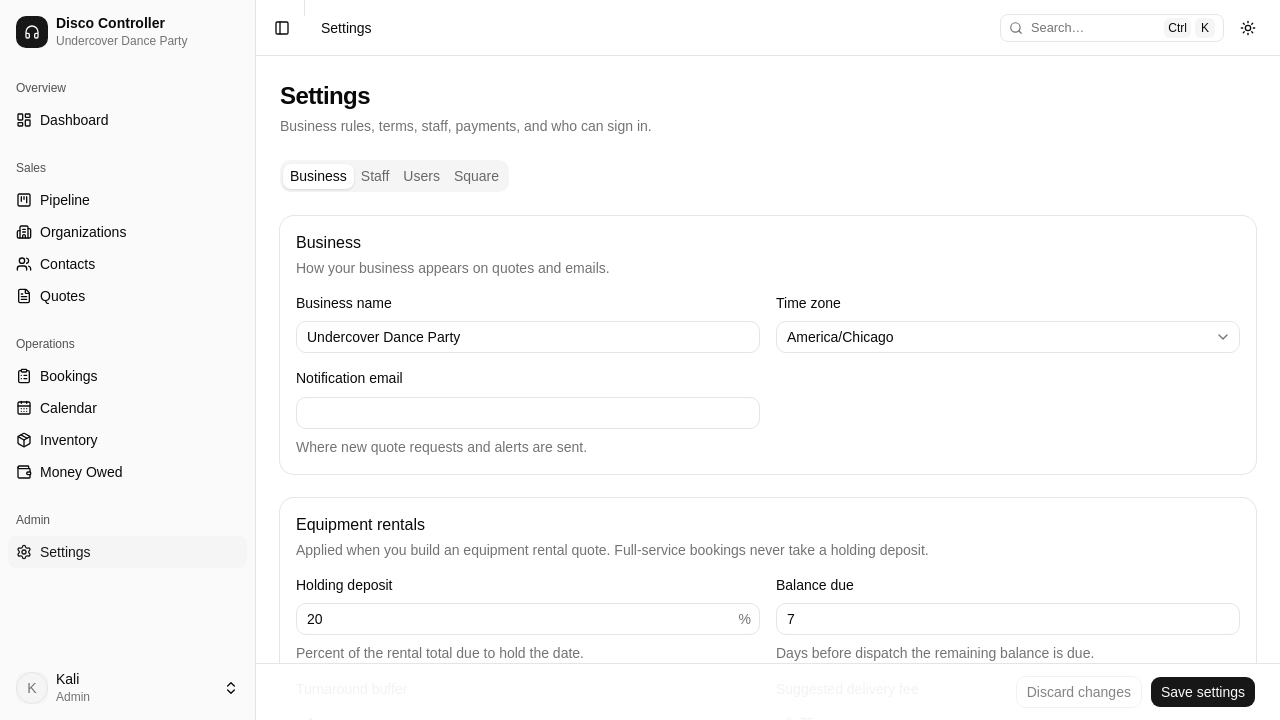
Test: settings page › validates before saving
Replace the text in the number field labelled "Holding deposit" with "150" at {"x": 518, "y": 619}, box [297,603,738,635]
(page scrolled)
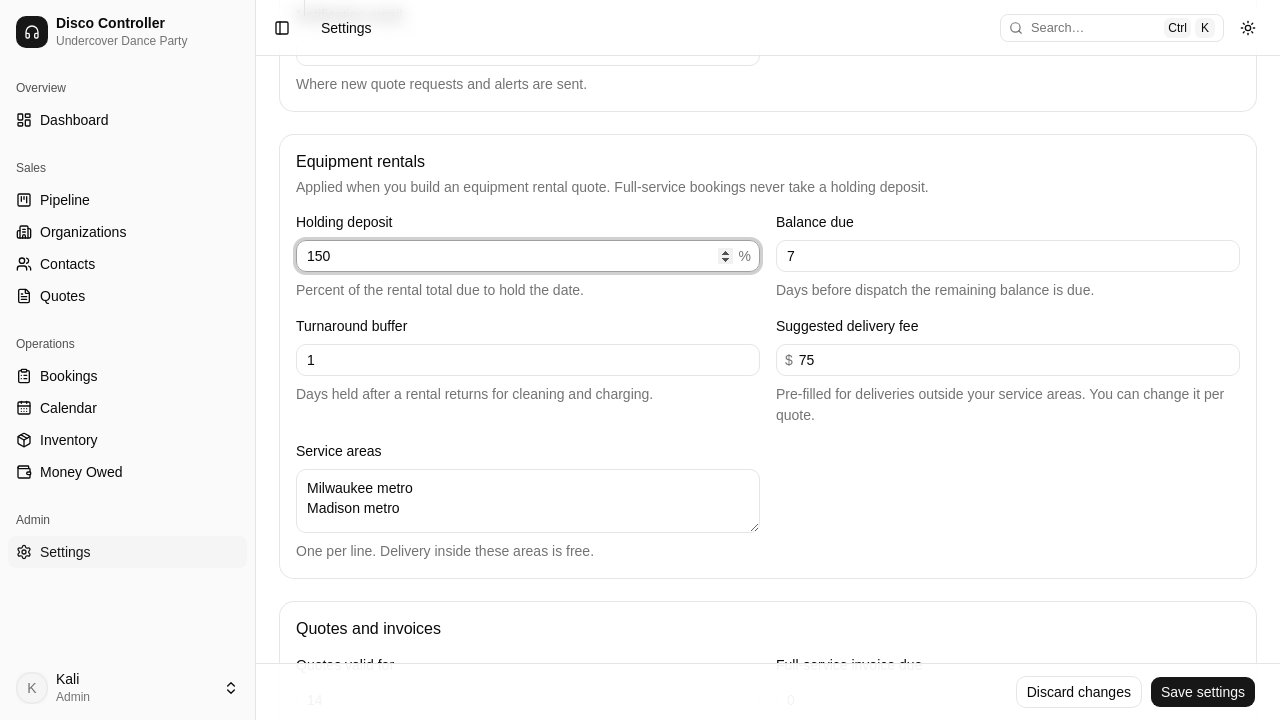
Clear the number field labelled "Turnaround buffer" at {"x": 528, "y": 360}, box [296,344,760,376]
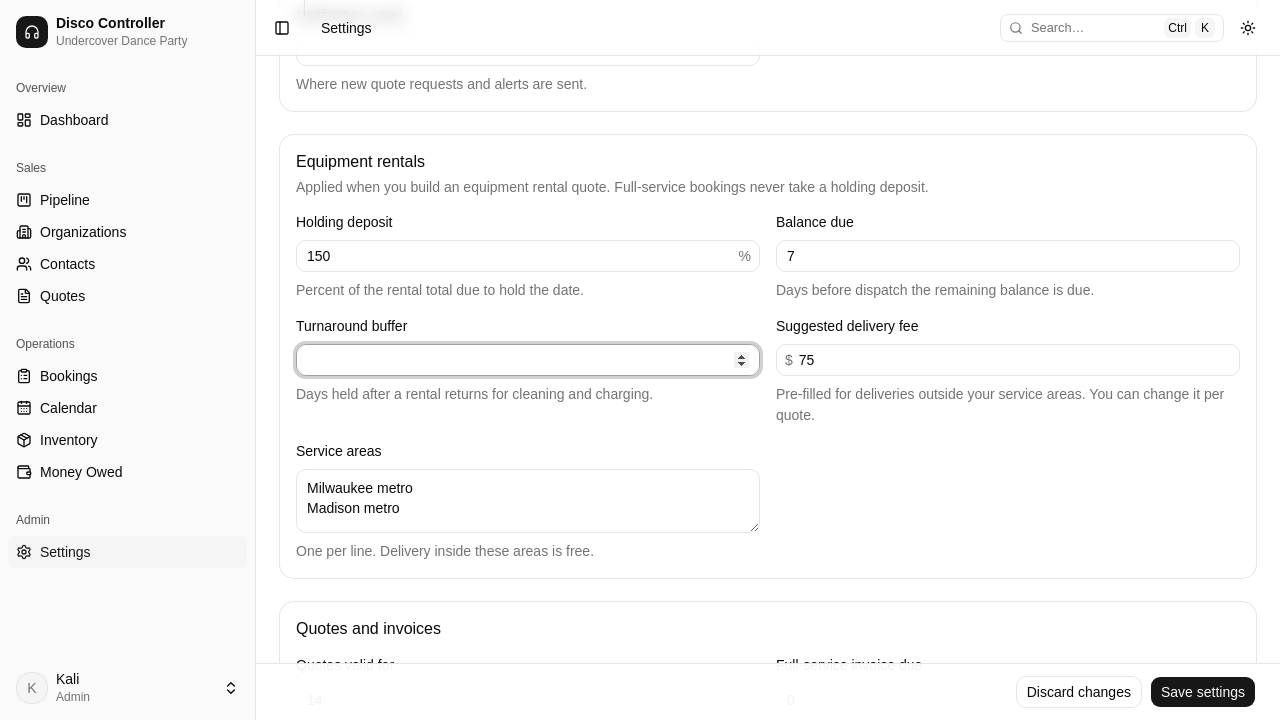
Click the button "Save settings" at {"x": 1203, "y": 692}, box [1150,676,1256,708]
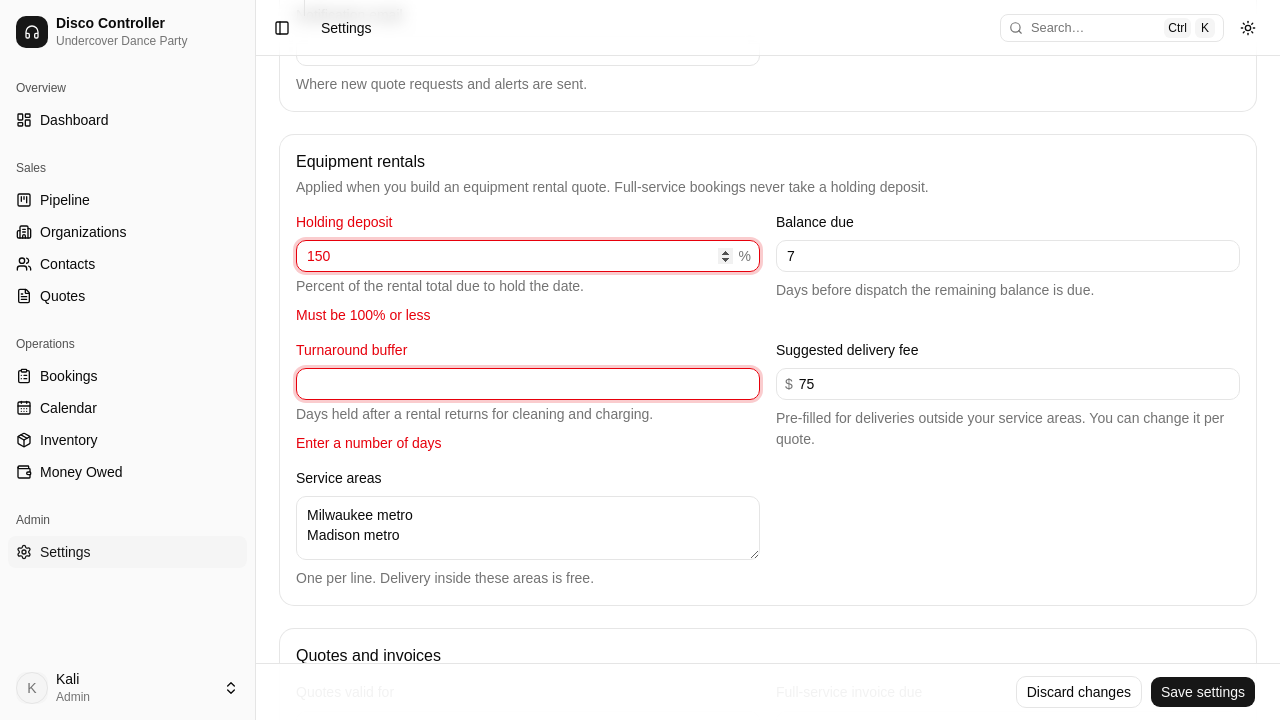
Expected: the text "Must be 100% or less" is shown, [296,307,431,323]
Expected: the text "Enter a number of days" is shown, [296,435,442,451]
